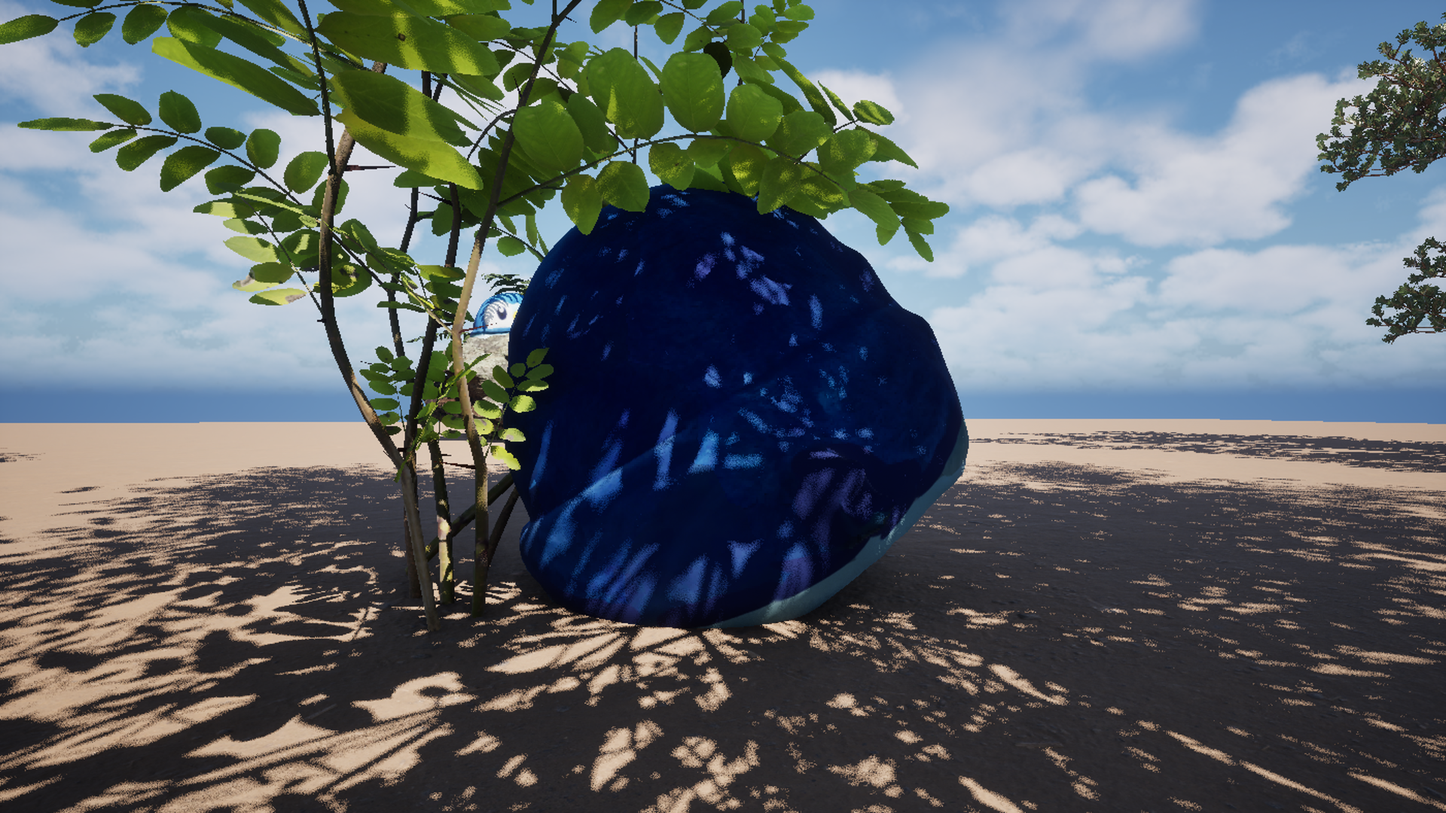Piplup: (281, 0, 1173, 813)
